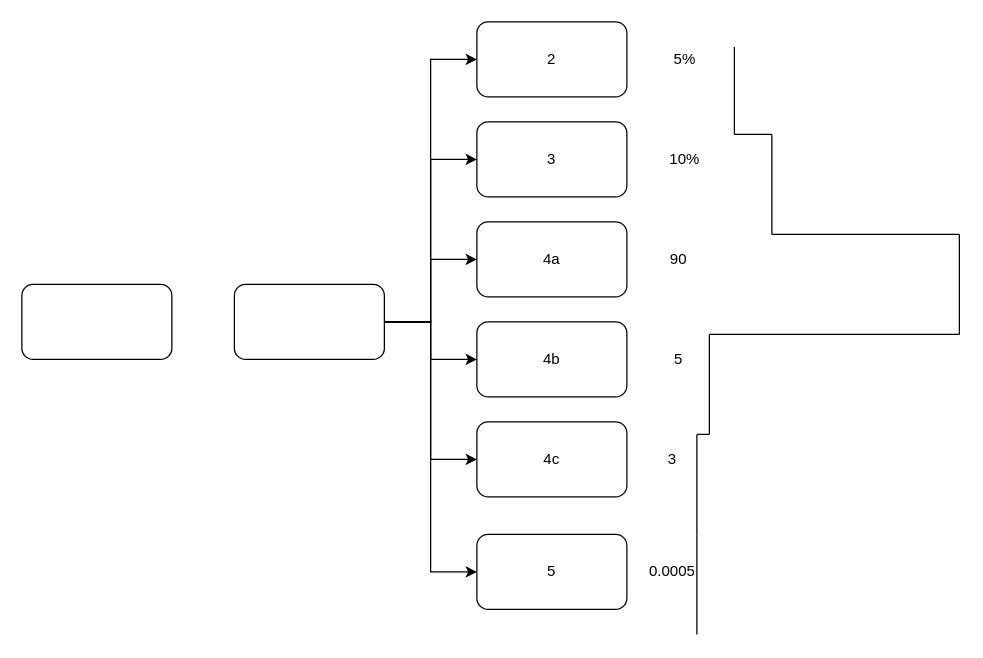
The diagram is 983 pixels wide and 658 high, and some of its shapes have lost their labels. The shapes that lost their labels are listed below. From the top down, each one's centre as x and y in pixels, then its label:
At point 96,321: "TIRADS Classification".
At point 308,321: "scan".
